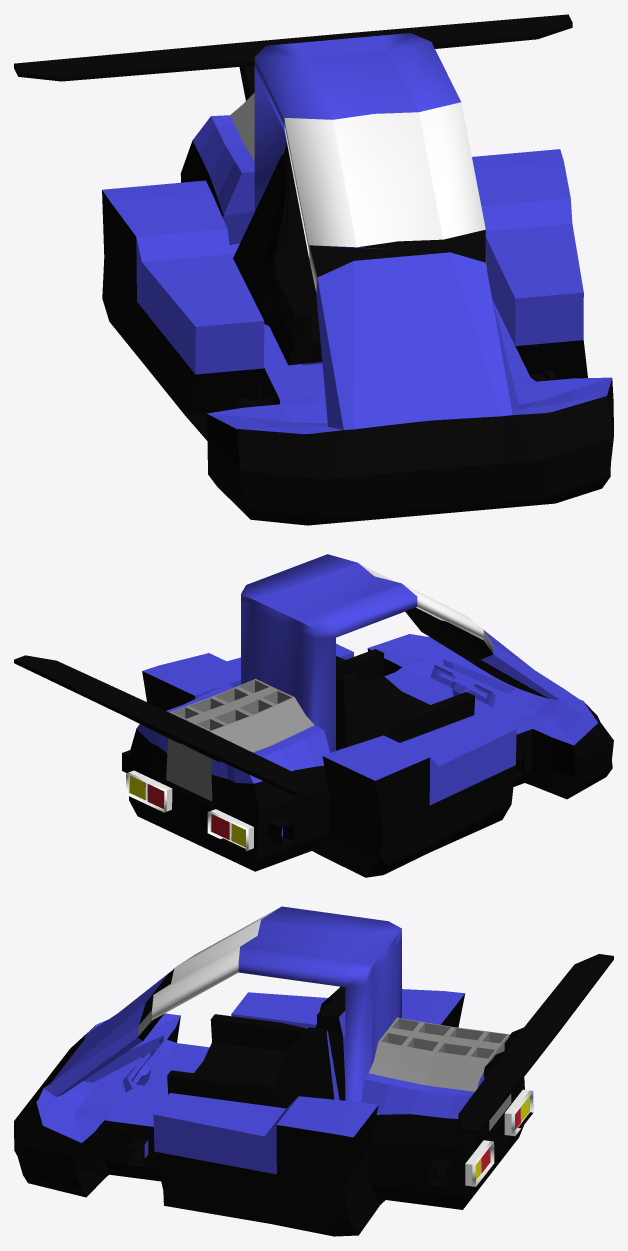
File: carroMuu.fbx
The picture shows the model from 3 angles, top to bottom: view 1: azimuth 30°, elevation 25°; view 2: azimuth 150°, elevation 25°; view 3: azimuth 270°, elevation 25°; orthographic projection. The views are drawn at different scales.
Parts seen in each view (by area): view 1: kart; view 2: kart; view 3: kart.
Boxes of the visible parts, bbox=[...] form: kart: bbox=[14, 14, 613, 525]; kart: bbox=[14, 554, 613, 877]; kart: bbox=[14, 906, 613, 1236].
Bounding box in the file's own units: 278 × 137 × 333.
